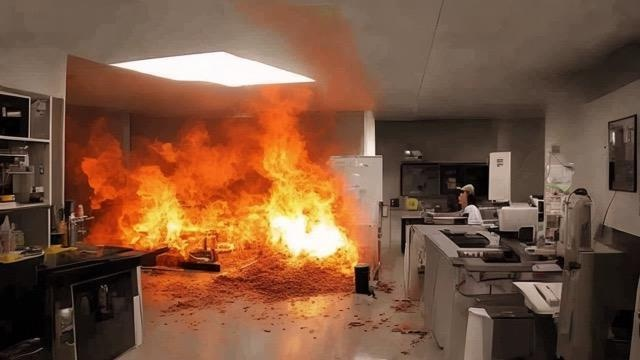fire: (77, 82, 367, 290)
